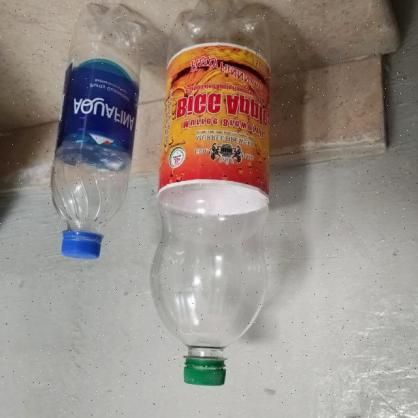bottle: (146, 4, 268, 388), (45, 10, 136, 260)
cap: (183, 353, 225, 389), (59, 228, 103, 260)
label: (163, 49, 265, 195), (53, 68, 134, 157)
